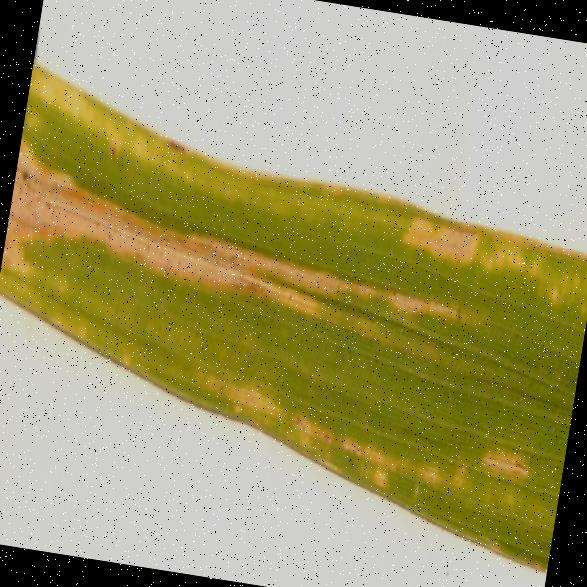Bacteria_Leaf_Blight: (0, 74, 587, 507)
